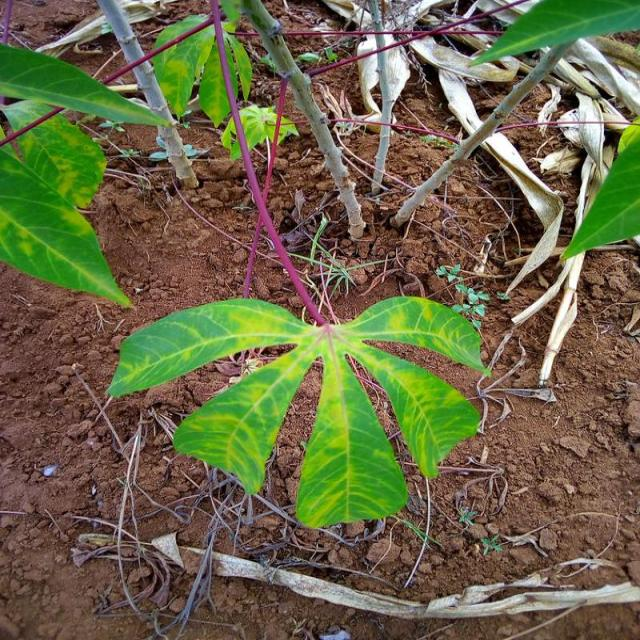cassava leaf: (106, 287, 490, 529), (0, 41, 173, 128), (467, 0, 639, 67), (560, 129, 639, 262)
